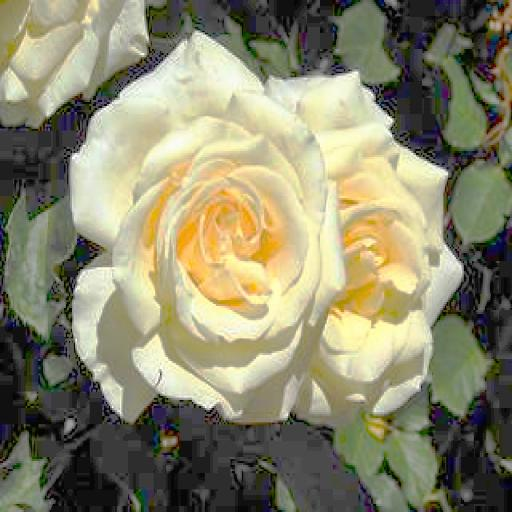rose: (66, 30, 334, 428), (280, 72, 459, 416)
